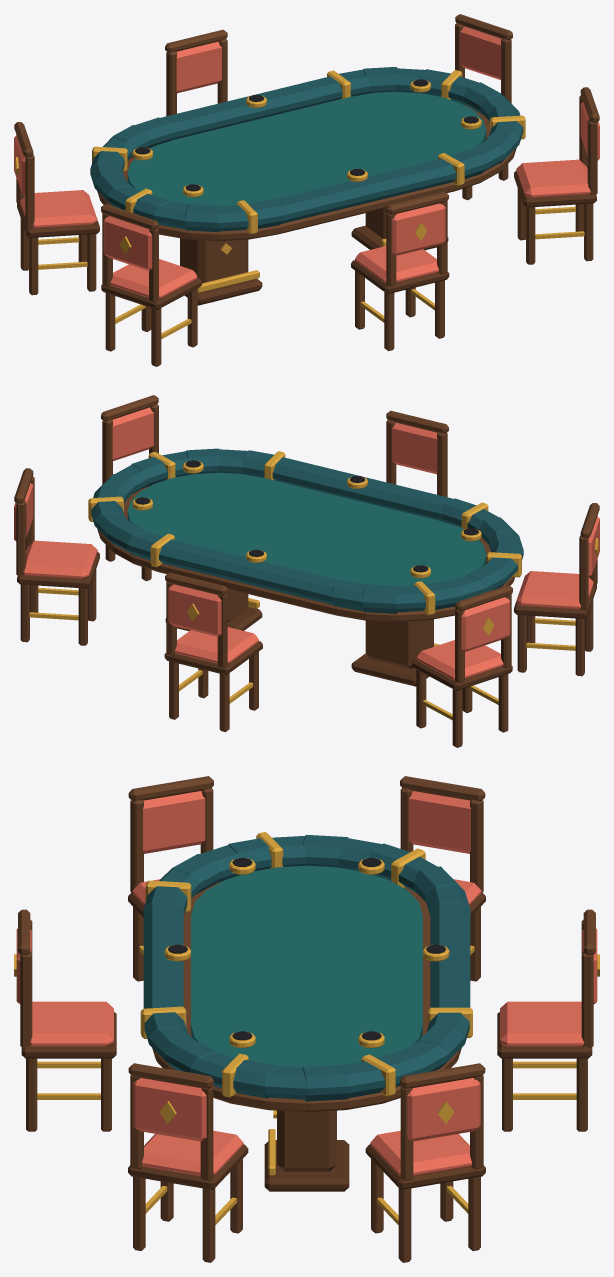
The model's file is poker_table.glb.
The picture shows the model from 3 angles, top to bottom: view 1: azimuth 30°, elevation 25°; view 2: azimuth 150°, elevation 25°; view 3: azimuth 270°, elevation 25°; orthographic projection. The views are drawn at different scales.
Visible parts, largest first — view 1: poker_table; view 2: poker_table; view 3: poker_table.
Part boxes in pixels (x1,y1,x2,y2): poker_table: (14,14,599,366); poker_table: (14,395,599,747); poker_table: (14,776,599,1262).
Bounding box in the file's own units: 2.89 × 0.83 × 2.35.
